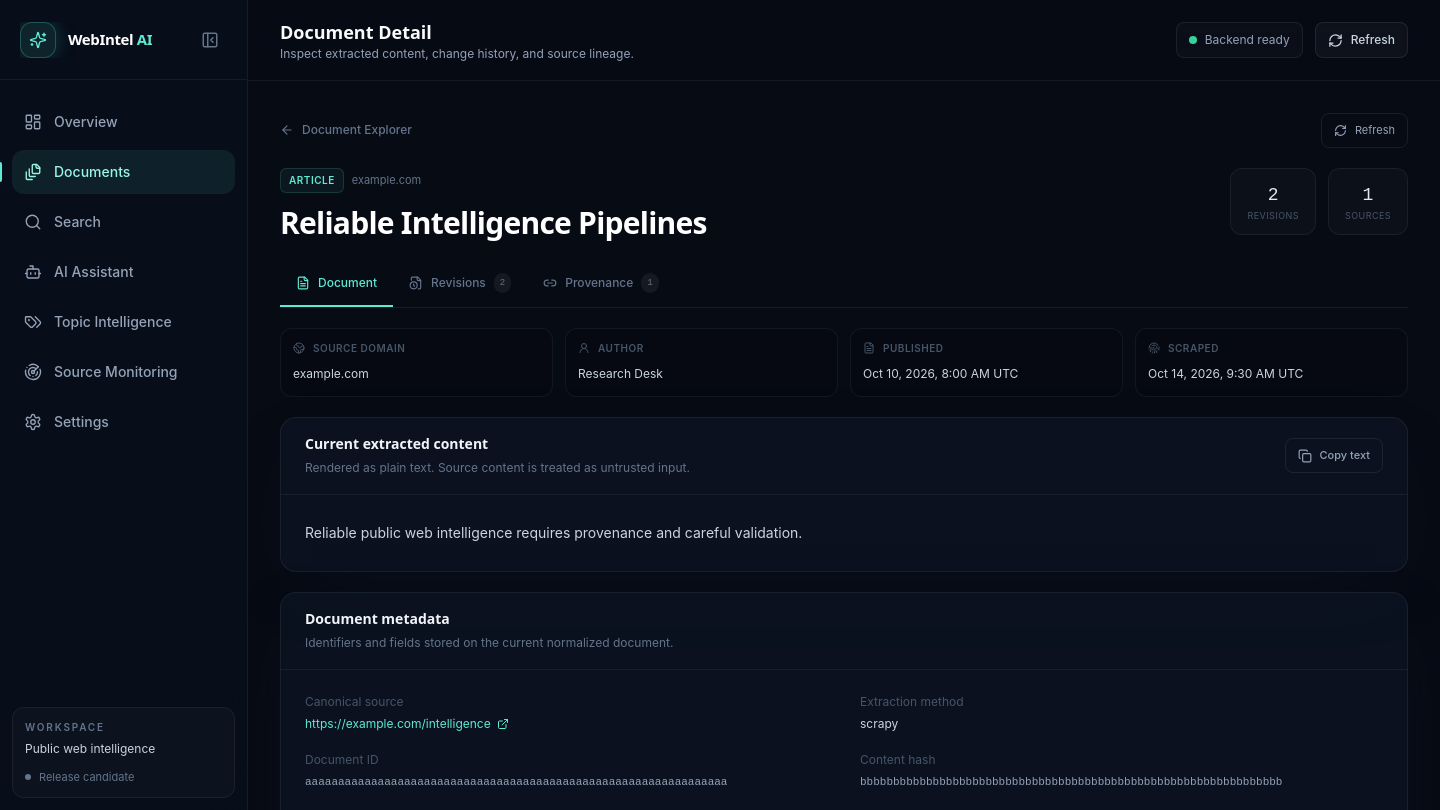
Test: DocumentDetailPage › renders provenance source, method, and observation timestamps
Step 1. Click the tab "Provenance 1" → {"x": 601, "y": 284}, box [527,260,675,306]
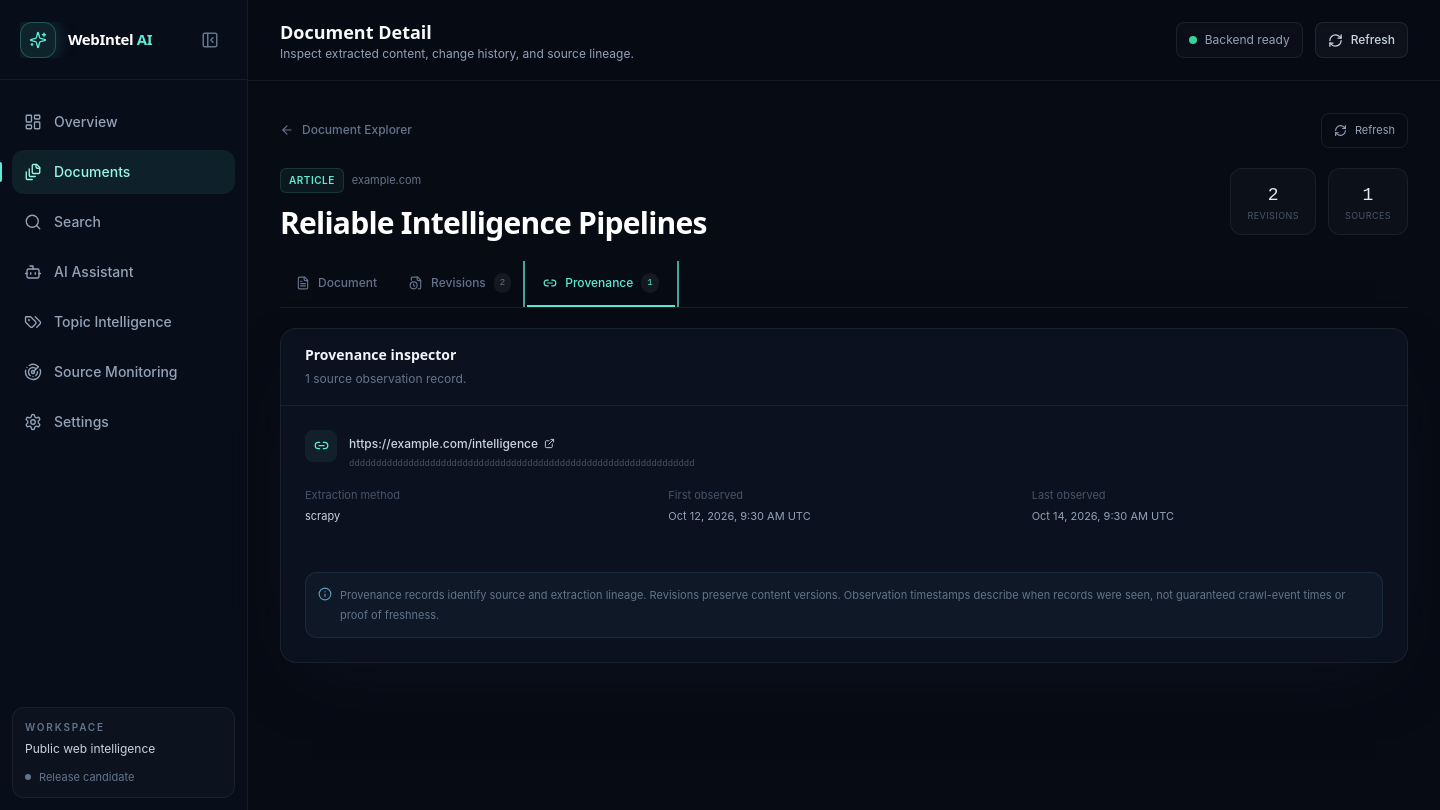
Expected: the link "https://example.com/intelligence" is shown, [349,436,555,452]
Expected: the text "First observed" is shown, [668,488,743,502]
Expected: the text "not guaranteed crawl-event times" is shown, [340,588,1346,622]
